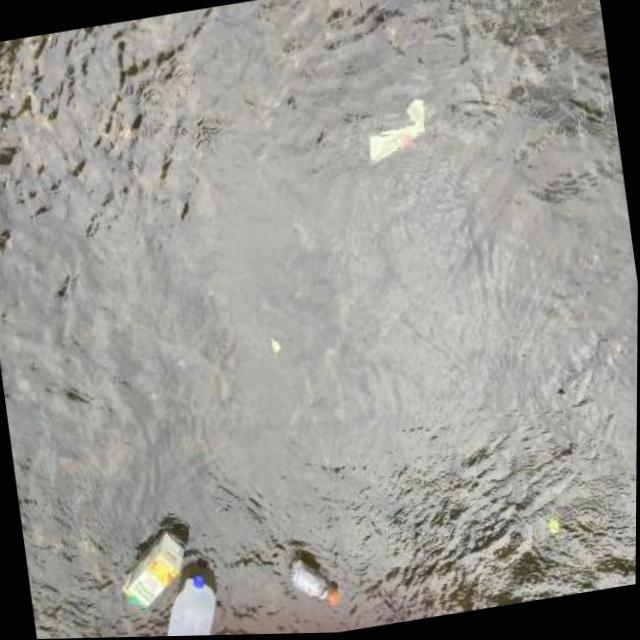Cardboard: (112, 521, 201, 621)
Plastic: (356, 91, 441, 174), (151, 566, 231, 637), (286, 548, 351, 621)
